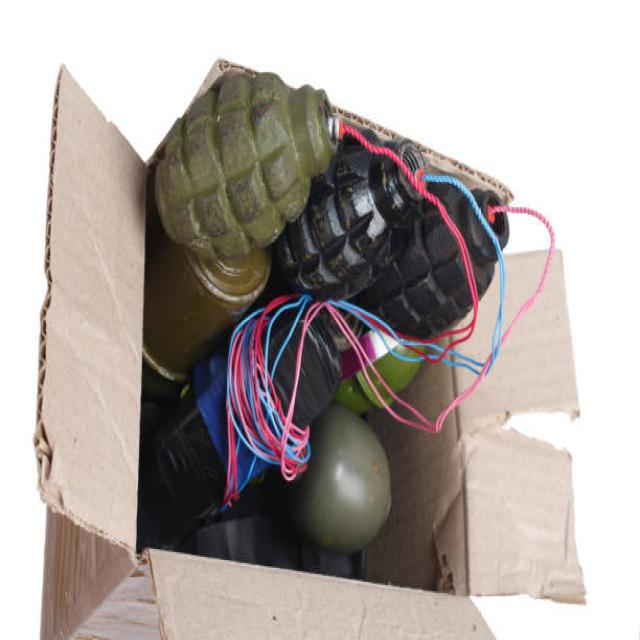grenade: (154, 76, 340, 265), (273, 140, 433, 303), (372, 189, 515, 350)
